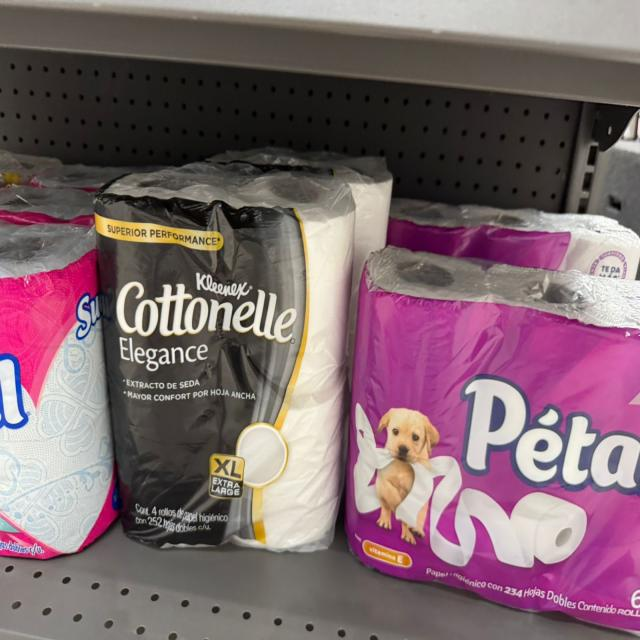Hig Petalo UltraJumbo 6s 234h: (341, 235, 640, 629), (392, 194, 640, 279)
Higienico Cottonelle Elegance XL 252h: (109, 170, 341, 566), (212, 112, 388, 235)
Higienico Suavel 325h 4rollos: (0, 227, 120, 556), (0, 151, 125, 187), (0, 184, 98, 221)
